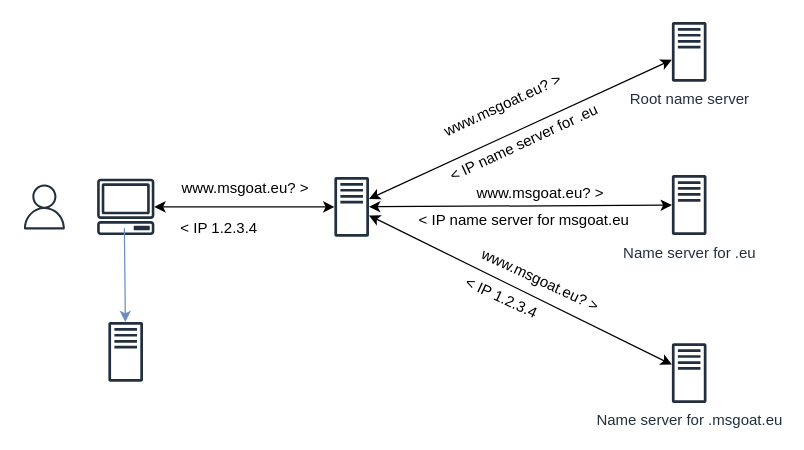
Image size: 804x450. Some labels were removed from this diagram. The box of each missing label's shape, as (x1, y1, x2, y2) in pixels:
DNS Resolver: (334, 176, 368, 236)
Web server (IP: 1.2.3.4): (108, 321, 142, 381)
